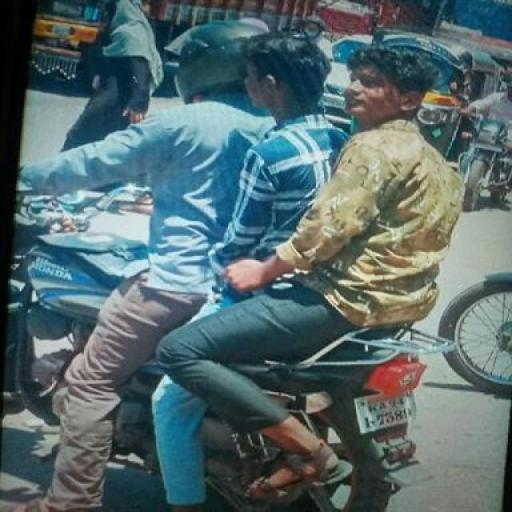tripple riding: (12, 9, 488, 328)
